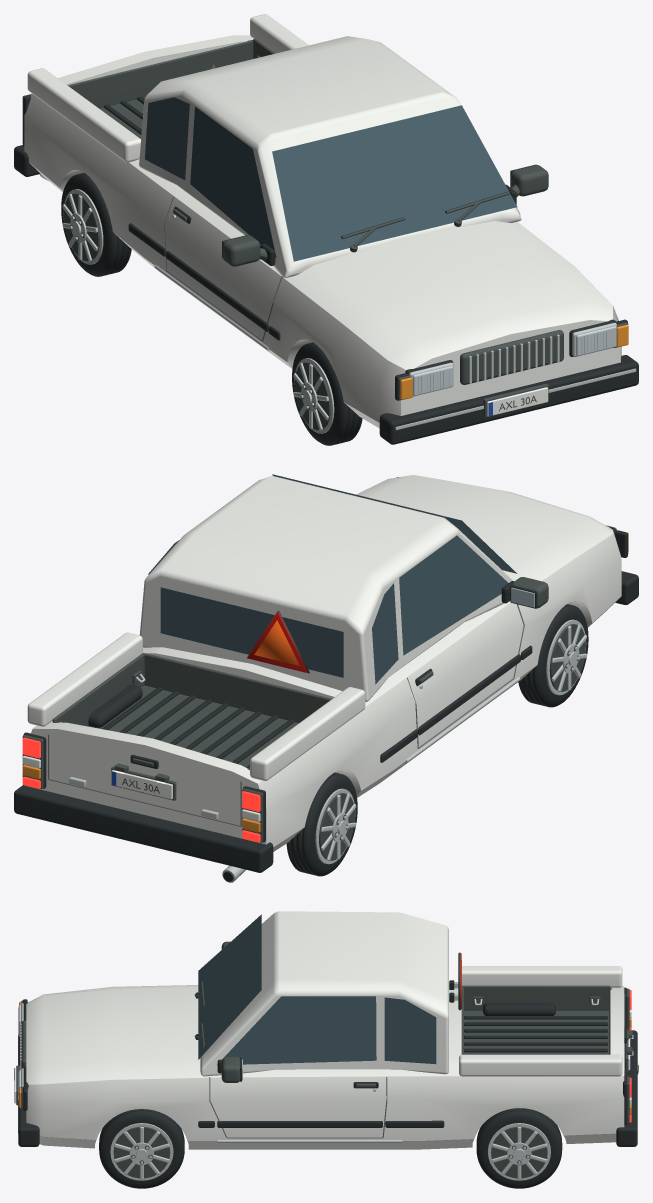
Rendered from a_traktor.glb.
3 views of the same model, one above another, from view 1: azimuth 30°, elevation 25°; view 2: azimuth 150°, elevation 25°; view 3: azimuth 270°, elevation 25° (orthographic). The views are drawn at different scales.
Parts seen in each view (by area): view 1: Pressed steel body, Painted cab, Raked wraparound windscreen, Driver side glass, Black bumper, Tailgate inner liner, Cargo rail, Rear quarter glass, Radiator grille, Däck.002, Däck, Cargo rail.001 (+9 smaller); view 2: Pressed steel body, Painted cab, Black bumper.001, Driver side glass, Cab backlight, Bed front bulkhead liner, Load bed liner, Cargo rail, Cargo rail.001, Däck.002, Däck, Inner bed liner.001 (+9 smaller); view 3: Pressed steel body, Painted cab, Driver side glass.001, Raked wraparound windscreen, Cargo rail.001, Load bed liner, Cargo rail, Inner bed liner, Rear quarter glass.001, Däck.003, Däck.001, Wheel hub recess.003 (+16 smaller).
Part boxes in pixels (x1,y1,x2,y2): Pressed steel body: (24, 35, 621, 428); Painted cab: (139, 36, 521, 277); Raked wraparound windscreen: (272, 105, 517, 261); Driver side glass: (190, 106, 276, 257); Black bumper: (379, 355, 638, 444); Tailgate inner liner: (68, 40, 253, 108); Cargo rail: (27, 68, 140, 162); Rear quarter glass: (145, 97, 189, 179); Radiator grille: (460, 330, 563, 384); Däck.002: (61, 173, 131, 276); Däck: (292, 342, 362, 445); Cargo rail.001: (250, 14, 308, 53); Pressed steel body: (24, 475, 621, 851); Painted cab: (139, 476, 513, 701); Black bumper.001: (14, 785, 273, 872); Driver side glass: (399, 535, 508, 655); Cab backlight: (160, 587, 343, 677); Bed front bulkhead liner: (144, 653, 331, 722); Load bed liner: (88, 685, 298, 767); Cargo rail: (250, 687, 365, 780); Cargo rail.001: (27, 632, 142, 726); Däck.002: (286, 772, 357, 876); Däck: (518, 604, 588, 707); Inner bed liner.001: (52, 653, 144, 726); Pressed steel body: (26, 984, 624, 1149); Painted cab: (200, 911, 448, 1076); Driver side glass.001: (217, 996, 376, 1065); Raked wraparound windscreen: (198, 914, 261, 1059); Cargo rail.001: (459, 1054, 622, 1076); Load bed liner: (464, 1012, 608, 1054); Cargo rail: (462, 966, 622, 987); Inner bed liner: (462, 985, 610, 1011); Rear quarter glass.001: (384, 997, 436, 1064); Däck.003: (476, 1108, 562, 1188); Däck.001: (99, 1109, 184, 1188); Wheel hub recess.003: (491, 1126, 547, 1178).
Size of the model in its own units: 2.26 by 1.62 by 4.7.
